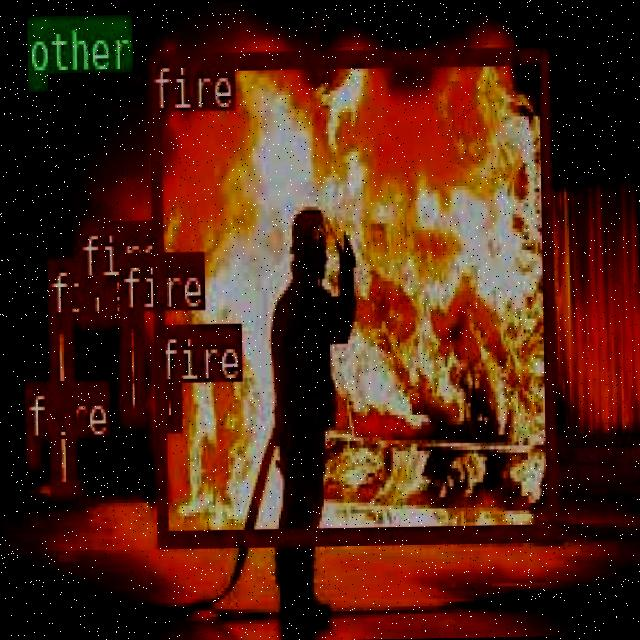fire: (148, 44, 555, 544), (47, 315, 75, 494), (119, 310, 144, 420), (76, 275, 115, 323), (156, 382, 180, 426), (23, 438, 38, 467)
